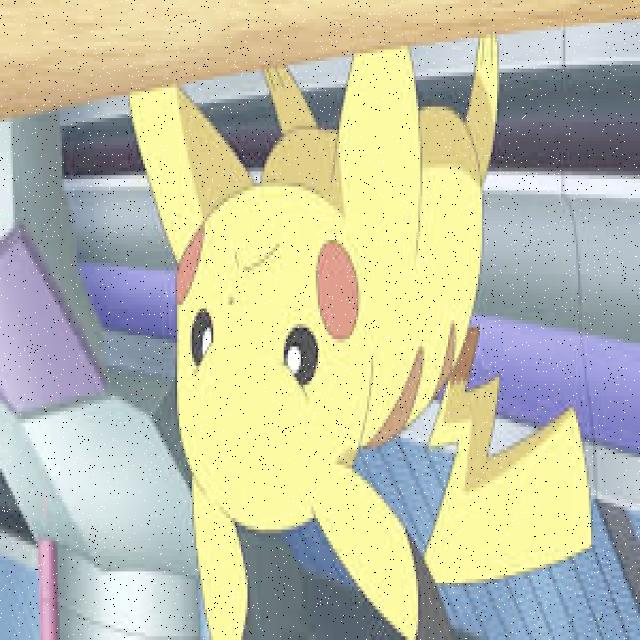pikachu: (112, 41, 598, 639)
